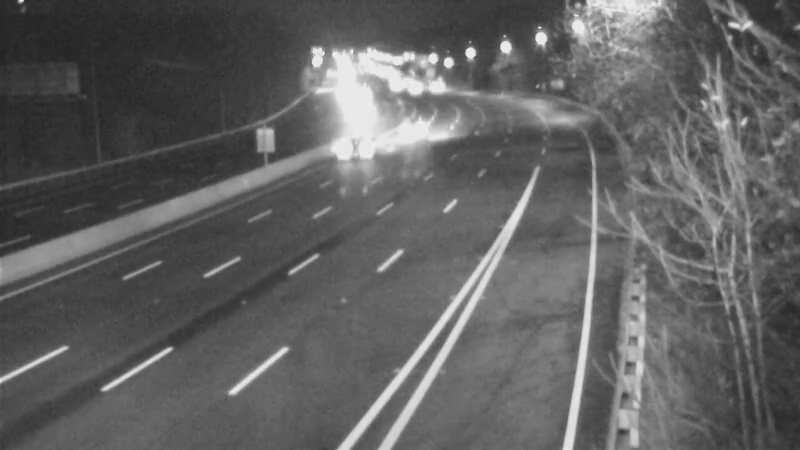vehicle: (317, 113, 397, 193), (387, 61, 437, 111), (407, 60, 457, 110), (381, 115, 431, 165)
